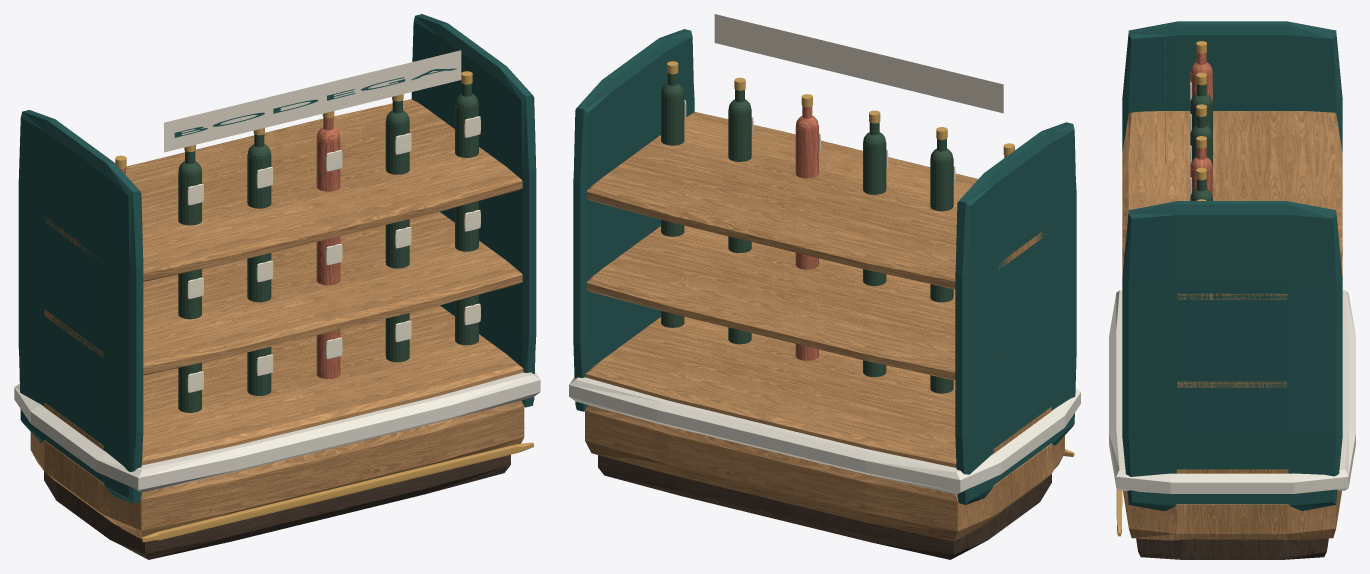
File: hiperreal-hd.glb
The picture shows the model from 3 angles, left to right: view 1: azimuth 30°, elevation 25°; view 2: azimuth 150°, elevation 25°; view 3: azimuth 270°, elevation 25°; orthographic projection. The views are drawn at different scales.
Visible parts, largest first — view 1: Native component 6, Native component 3, Native component 1, Native component 64, Native component 5, Native component 0, Native component 46, Native component 2, Native component 10, Sign BODEGA; view 2: Native component 6, Native component 3, Native component 1, Native component 64, Native component 0, Native component 5, Native component 10, Native component 2; view 3: Native component 3, Native component 6, Native component 1, Native component 0, Native component 64, Native component 10, Native component 2.
Part boxes in pixels (x1,y1,x2,y2): Native component 6: [30, 99, 524, 538]; Native component 3: [18, 14, 536, 503]; Native component 1: [14, 372, 540, 492]; Native component 64: [178, 83, 478, 412]; Native component 5: [164, 50, 461, 152]; Native component 0: [44, 454, 510, 559]; Native component 46: [187, 116, 480, 392]; Native component 2: [115, 71, 533, 542]; Native component 10: [120, 117, 340, 378]; Sign BODEGA: [174, 68, 457, 137]; Native component 6: [585, 112, 1064, 541]; Native component 3: [573, 29, 1076, 504]; Native component 1: [569, 377, 1080, 494]; Native component 64: [661, 73, 953, 393]; Native component 0: [598, 455, 1051, 559]; Native component 5: [714, 14, 1003, 113]; Native component 10: [795, 106, 1006, 360]; Native component 2: [667, 61, 1074, 456]; Native component 3: [1122, 21, 1342, 510]; Native component 6: [1122, 111, 1342, 540]; Native component 1: [1109, 290, 1355, 493]; Native component 0: [1136, 538, 1328, 559]; Native component 64: [1190, 84, 1212, 200]; Native component 10: [1190, 52, 1212, 197]; Native component 2: [1116, 41, 1206, 536].
Size of the model in its own units: 2.1 by 1.98 by 1.12.
10 materials, 3 textured.
